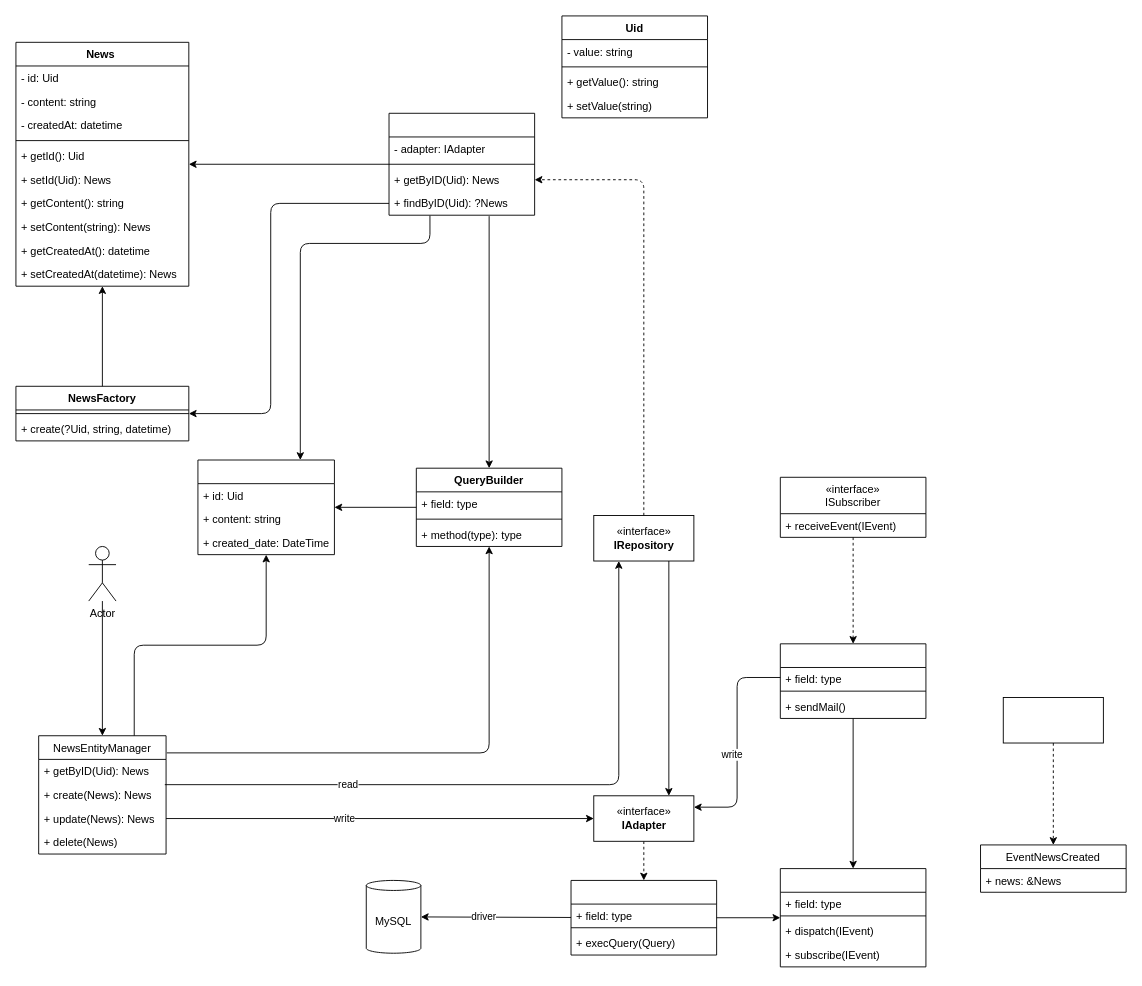
Some shapes in this 1142 by 986 pixel diagram are drawn without their labels. Each missing label, with the box of its shape:
EventDispatcher: (779, 868, 926, 967)
MailController: (779, 643, 926, 718)
MySQLAdapter: (570, 880, 717, 955)
NewsRepository: (388, 112, 535, 215)
Query: (197, 459, 334, 555)
«interface» IEvent: (1002, 697, 1103, 743)
